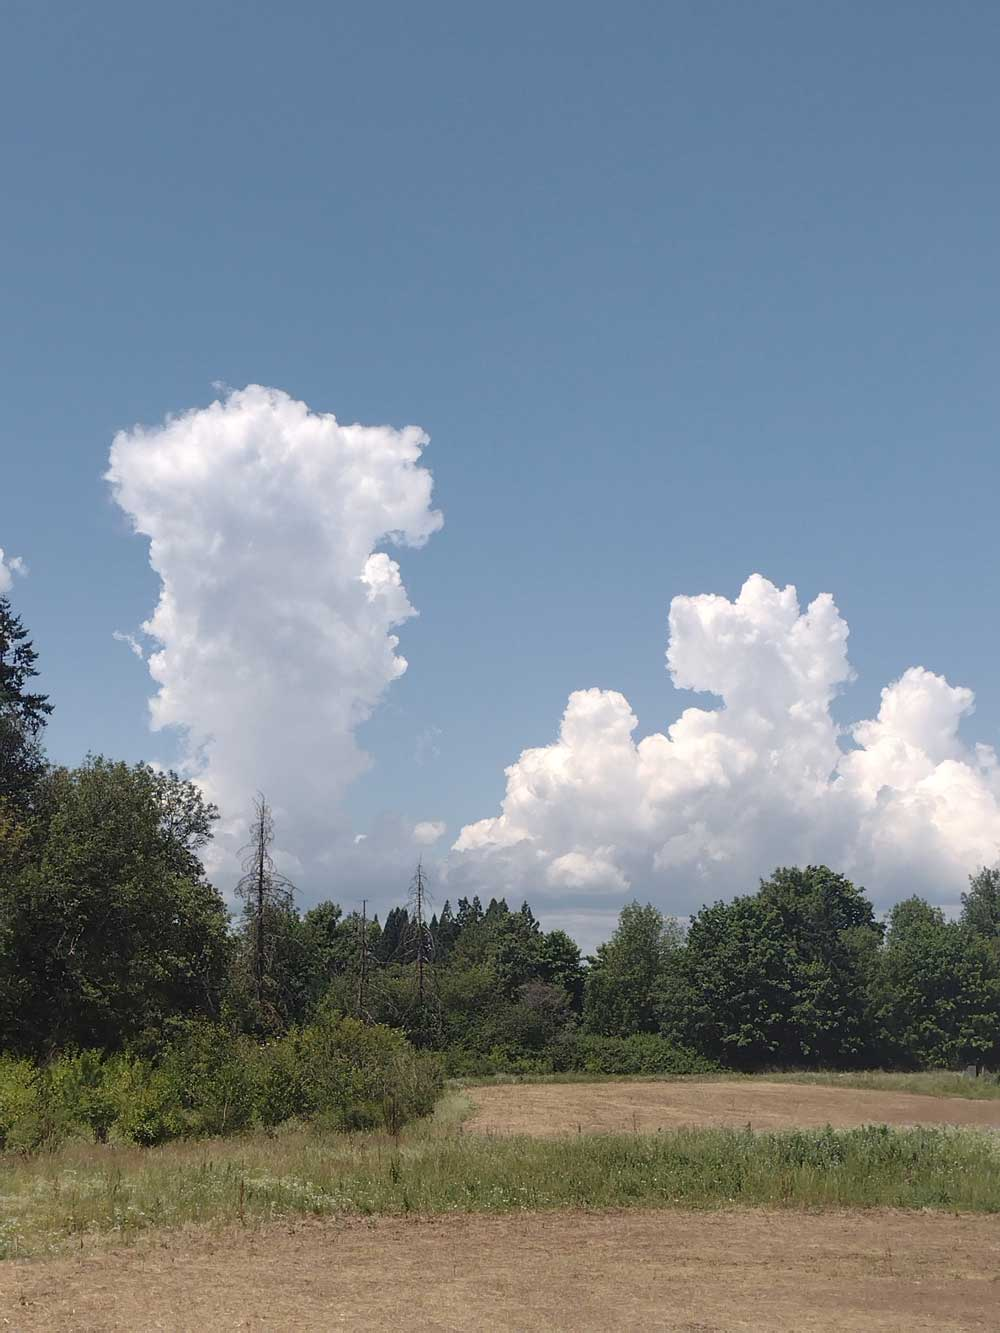Cumulus: (86, 326, 459, 856), (425, 546, 1000, 886)
